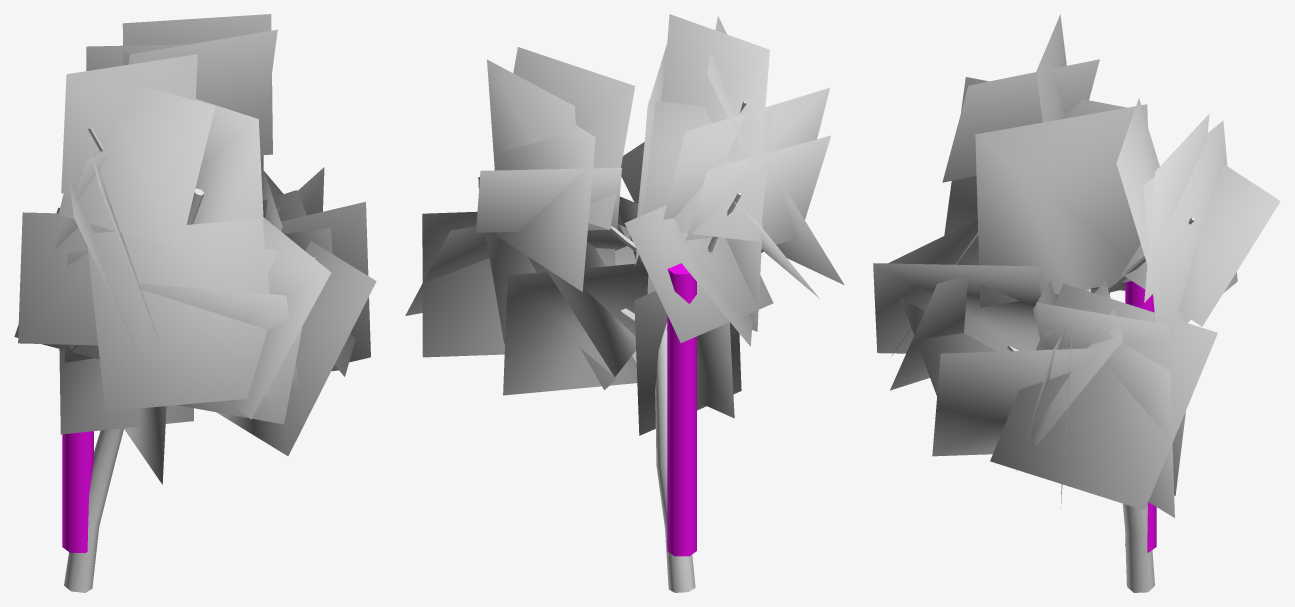
File: tree_sapling.glb
3 renders of one model, left to right at view 1: azimuth 30°, elevation 25°; view 2: azimuth 150°, elevation 25°; view 3: azimuth 270°, elevation 25°, orthographic. The views are drawn at different scales.
Visible parts, largest first — view 1: tree_sapling, tree_sapling_hull; view 2: tree_sapling, tree_sapling_hull; view 3: tree_sapling, tree_sapling_hull.
Boxes of the visible parts, left/top/right/bottom form: tree_sapling: left=14, top=14, right=376, bottom=592; tree_sapling_hull: left=62, top=431, right=93, bottom=552; tree_sapling: left=405, top=14, right=844, bottom=592; tree_sapling_hull: left=667, top=263, right=696, bottom=556; tree_sapling: left=873, top=14, right=1280, bottom=592; tree_sapling_hull: left=1125, top=281, right=1156, bottom=552.
Size of the model in its own units: 4.15 by 5.57 by 3.75.
